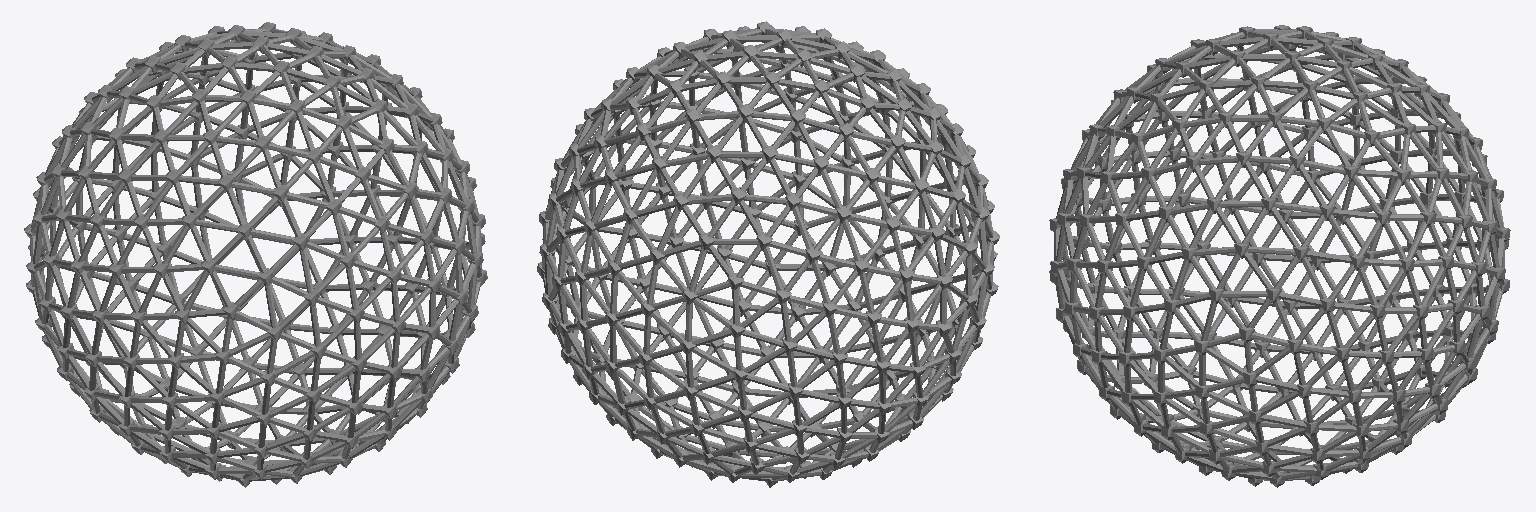
3 views of the same model, side by side, from view 1: azimuth 30°, elevation 25°; view 2: azimuth 150°, elevation 25°; view 3: azimuth 270°, elevation 25° (orthographic).
Visible parts, largest first — view 1: GeoSphere02; view 2: GeoSphere02; view 3: GeoSphere02.
Boxes of the visible parts, box(x1,y1,x2,y2) form: GeoSphere02: box(24, 22, 487, 487); GeoSphere02: box(537, 21, 999, 487); GeoSphere02: box(1049, 25, 1510, 487).
Size of the model in its own units: 129 by 128 by 127.